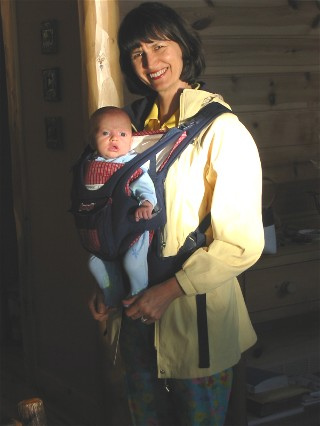person: (106, 3, 266, 425), (74, 106, 159, 320)
